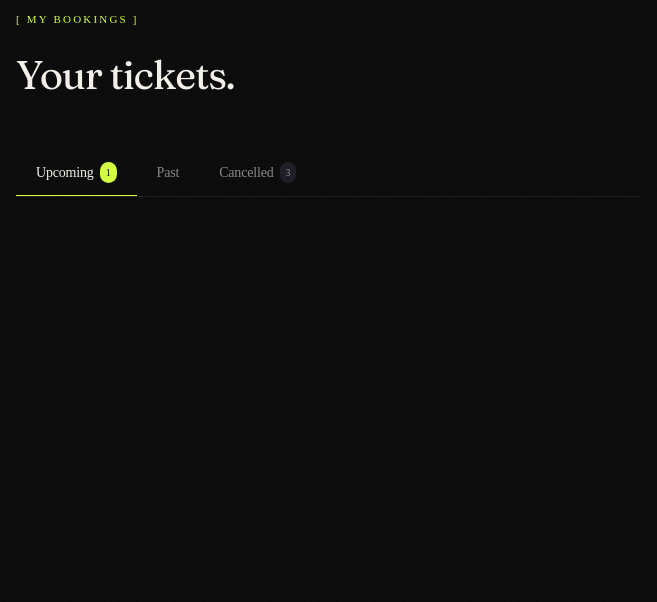
Test: /my-bookings › keeps expired, refunded and refunded-but-confirmed bookings out of Upcoming
Click the button "Cancelled 3": (258, 173) left=199, top=149, right=316, bottom=196
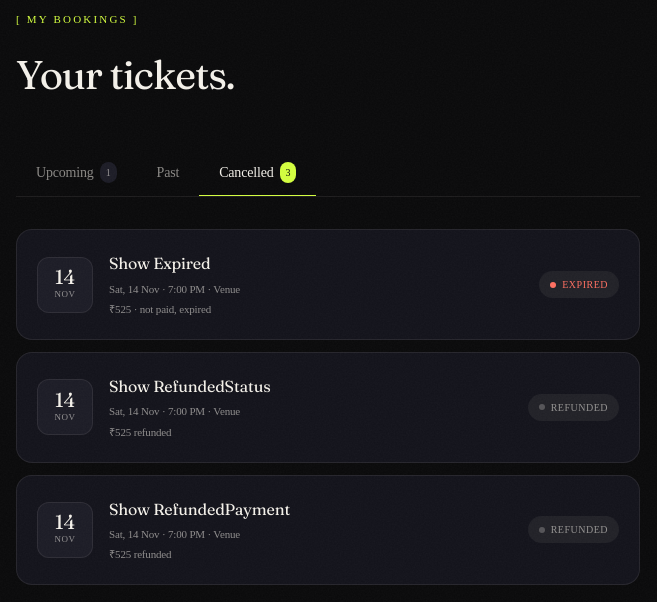
expect the text "Expired" is shown: met, box left=562, top=276, right=608, bottom=293
